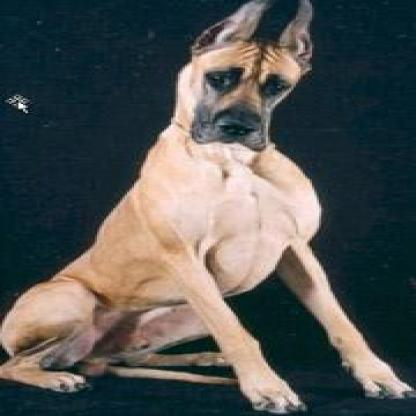Great_Dane: (0, 0, 411, 412)
